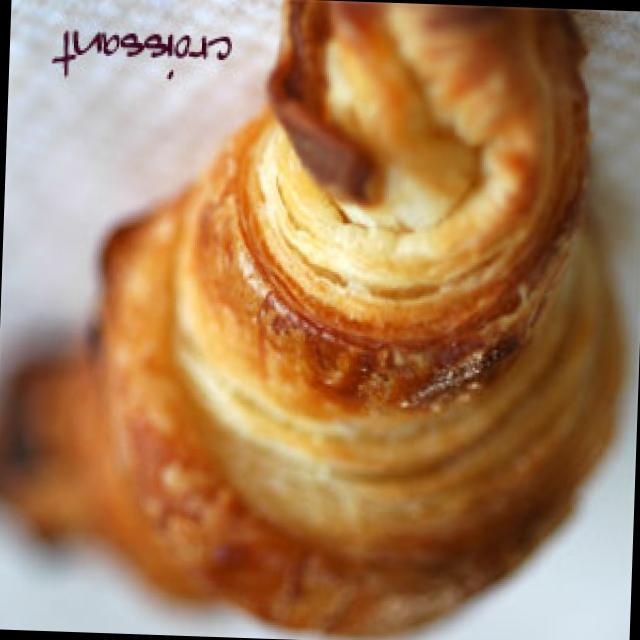Croissant: (168, 0, 619, 626)
